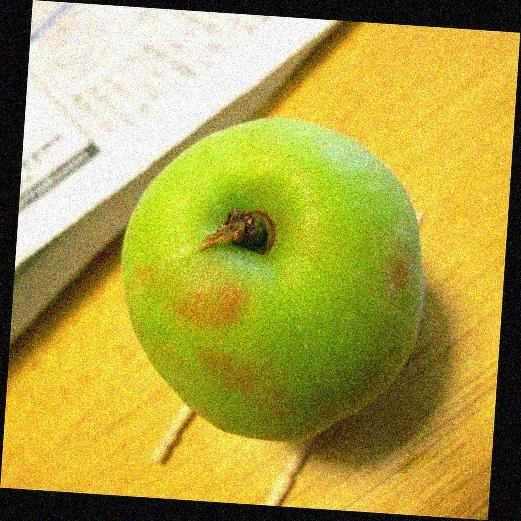green apple: (113, 115, 435, 445)
